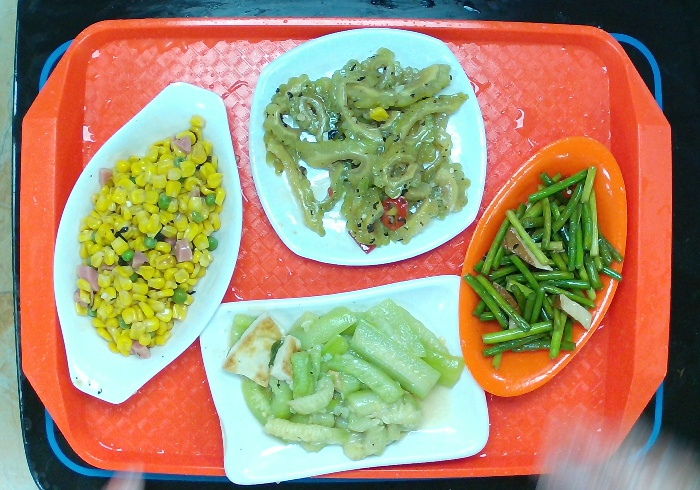RJxy-Ju_Huang_Tuo_Yuan: (454, 131, 631, 398)
RJxy-Si_Fang_Ao_Bian_Wan: (193, 271, 493, 490)
RJxy-Si_Fang_Die: (249, 27, 488, 267)
RJxy-Yu_Pan: (51, 78, 243, 408)
